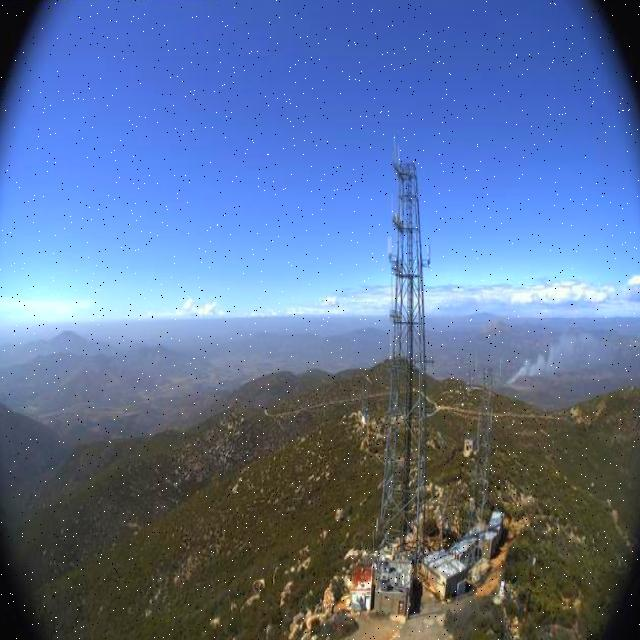smoke: (499, 324, 623, 389)
